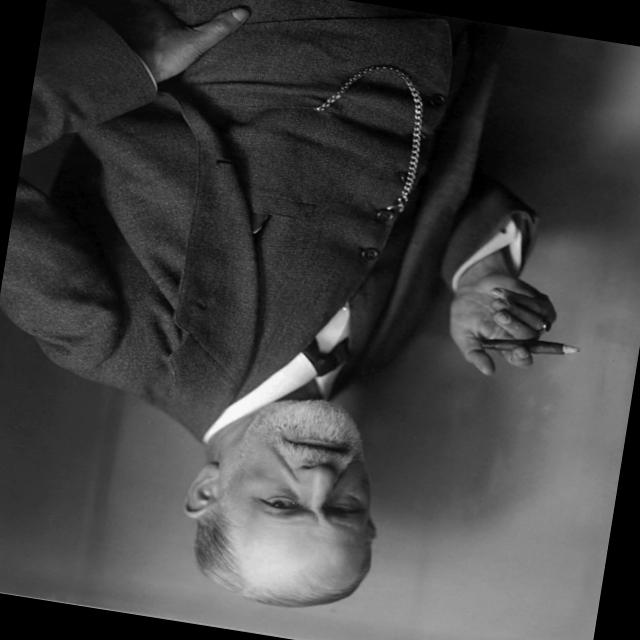smoke: (452, 325, 604, 382)
